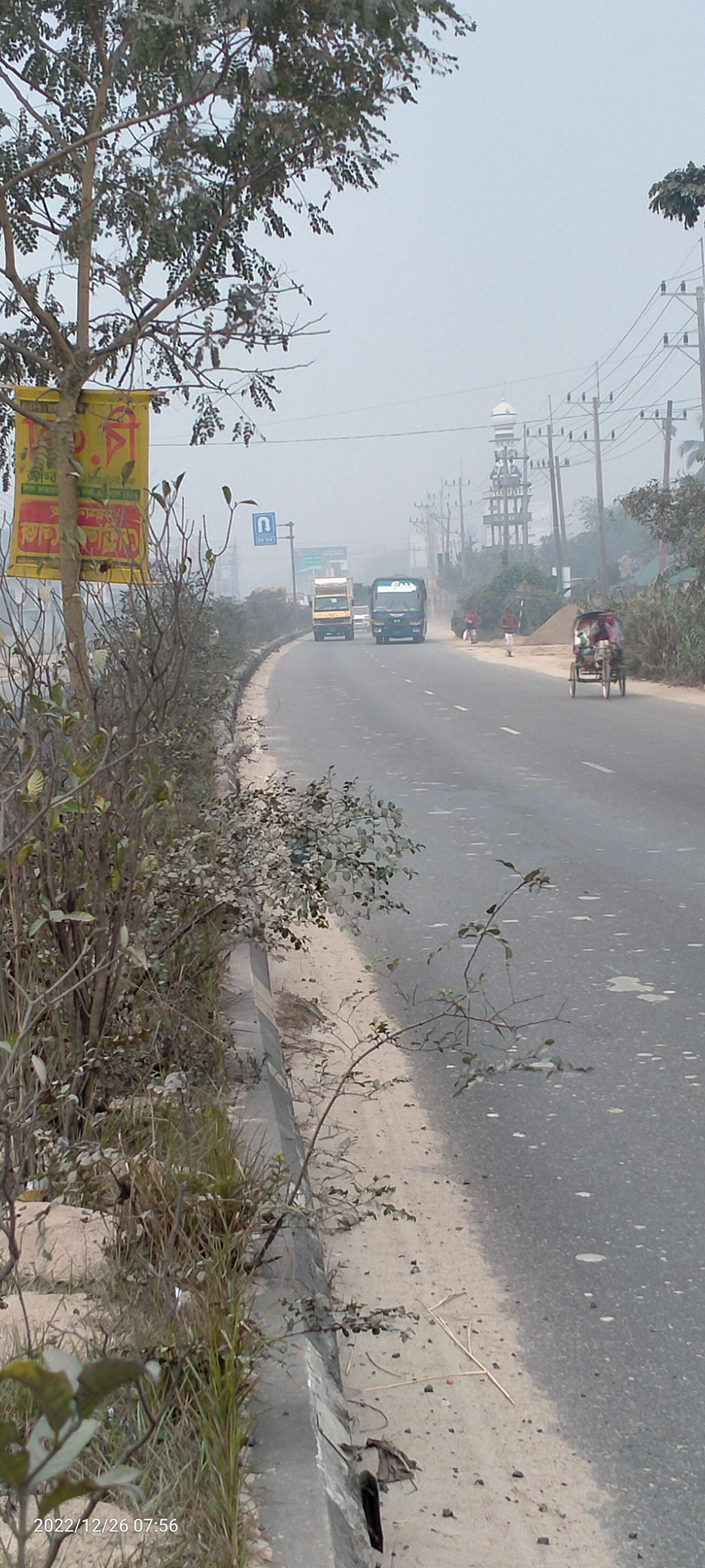Bus: (368, 573, 434, 649)
Car: (559, 606, 633, 706)
Truck: (306, 573, 358, 641)
